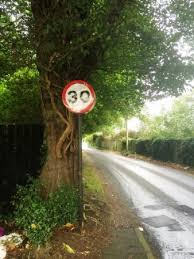sp30: (56, 79, 100, 115)
